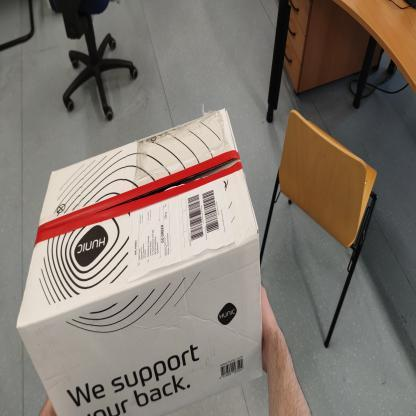-: (14, 97, 308, 415)
